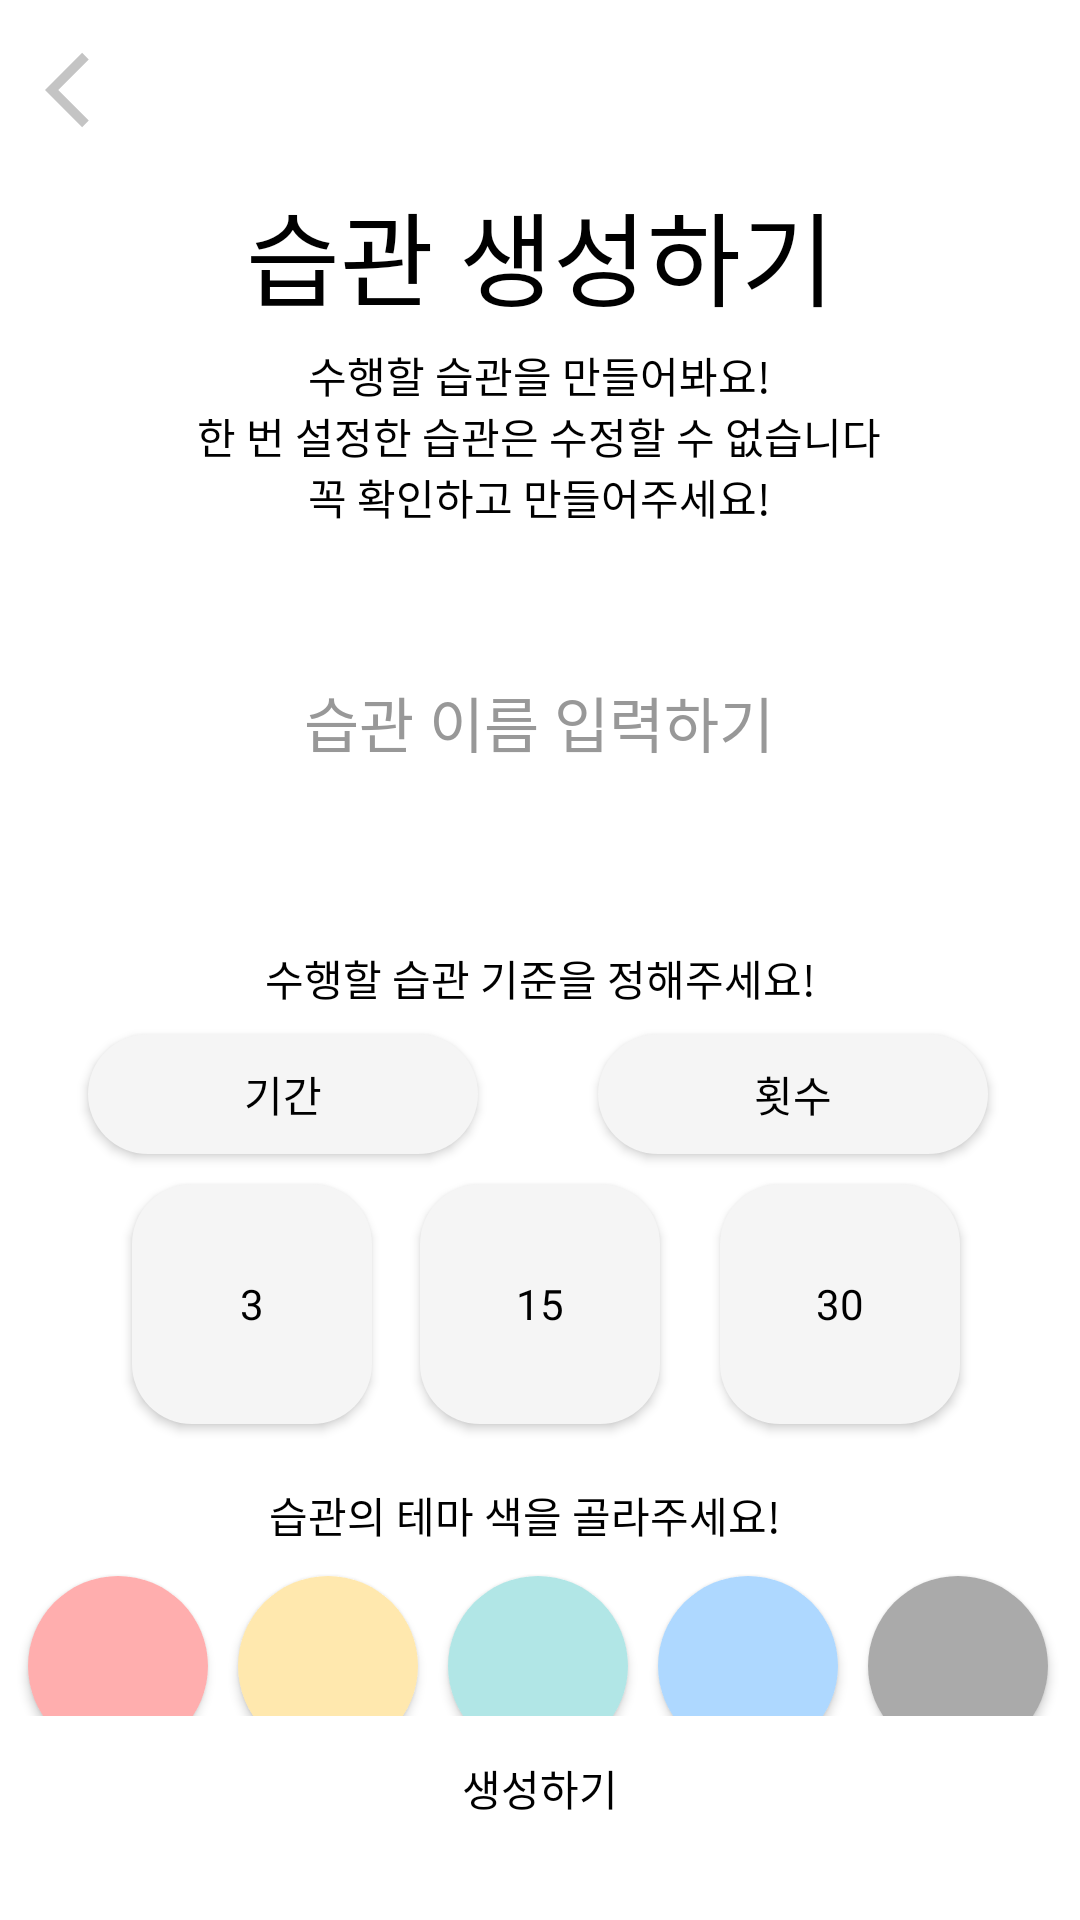

Named icons in this screenshot (1080*1920) and their bounding boxes, {"left": x1, "top": y1, "right": x2, "bottom": y2}:
back: {"left": 45, "top": 53, "right": 89, "bottom": 127}
